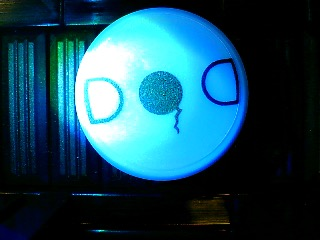CRACK: (75, 7, 248, 181)
